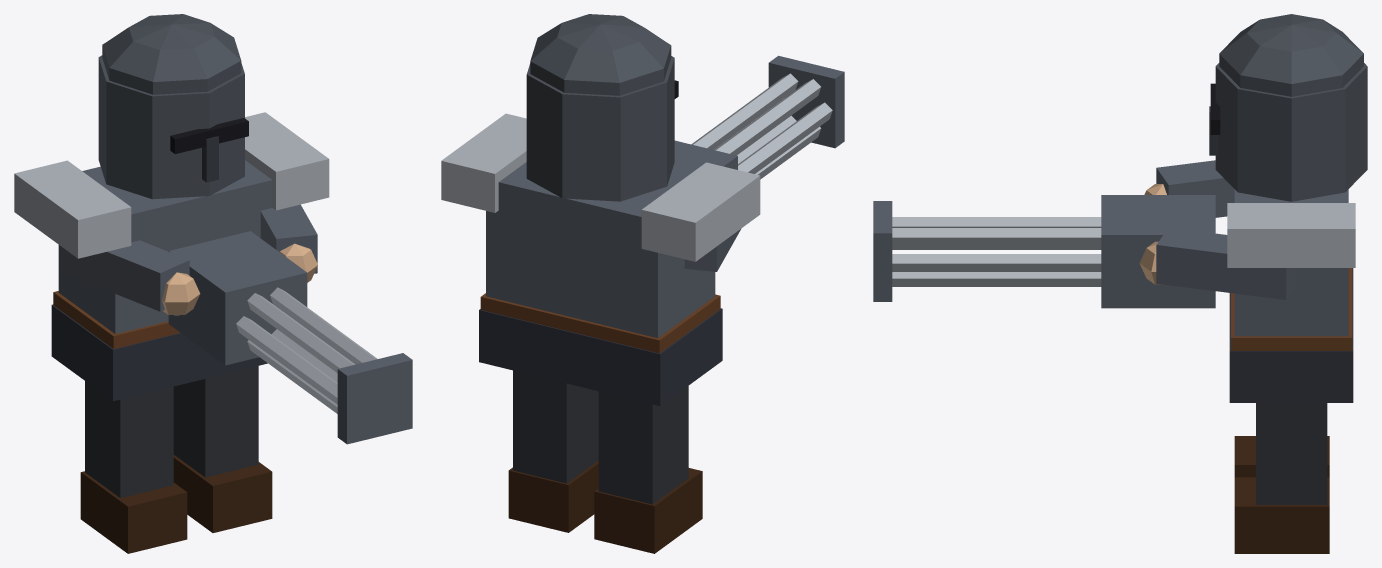
The model's file is u_gatling.fbx.
The picture shows the model from 3 angles, left to right: view 1: azimuth 30°, elevation 25°; view 2: azimuth 150°, elevation 25°; view 3: azimuth 270°, elevation 25°; orthographic projection.
Parts seen in each view (by area): view 1: u_gatling_Body, u_gatling_LegR, u_gatling_LegL; view 2: u_gatling_Body, u_gatling_LegR, u_gatling_LegL; view 3: u_gatling_Body, u_gatling_LegL, u_gatling_LegR.
Part boxes in pixels (x1=…): u_gatling_Body: x1=14, y1=14, x2=412, y2=444; u_gatling_LegR: x1=80, y1=381, x2=187, y2=553; u_gatling_LegL: x1=173, y1=366, x2=272, y2=532; u_gatling_Body: x1=441, y1=14, x2=844, y2=406; u_gatling_LegR: x1=594, y1=386, x2=702, y2=553; u_gatling_LegL: x1=508, y1=370, x2=598, y2=532; u_gatling_Body: x1=873, y1=14, x2=1367, y2=402; u_gatling_LegL: x1=1234, y1=403, x2=1329, y2=553; u_gatling_LegR: x1=1234, y1=436, x2=1329, y2=477.
Size of the model in its own units: 0.613 by 1.15 by 1.04.
